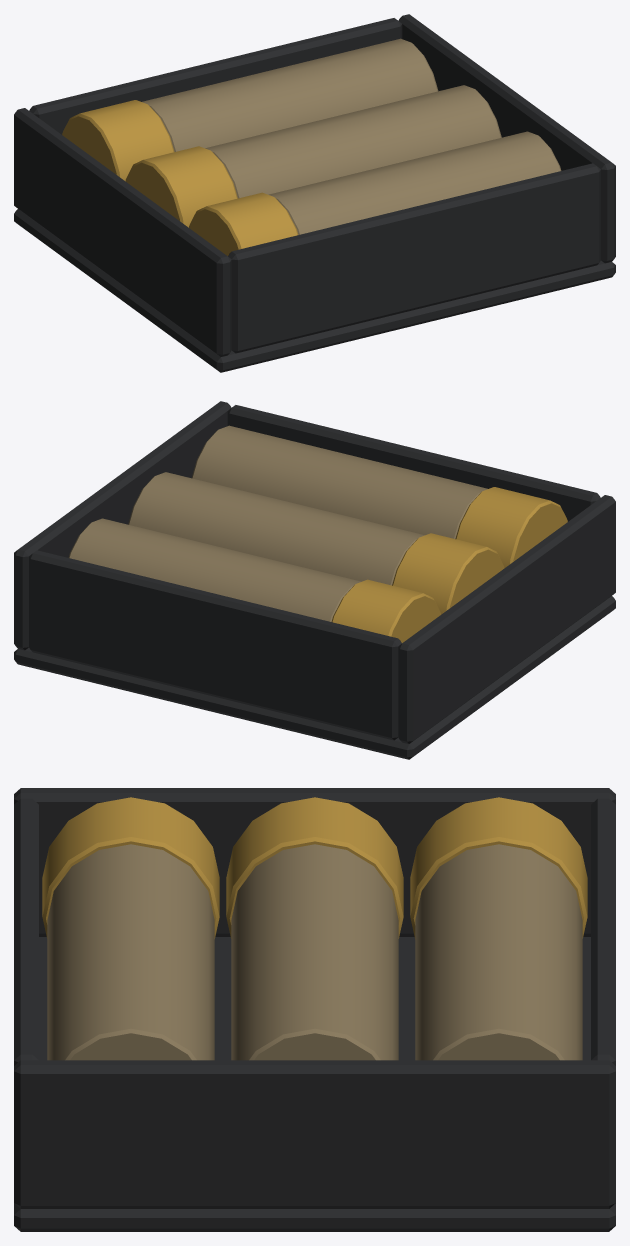
File: mod_shotgun_he.glb
The picture shows the model from 3 angles, top to bottom: view 1: azimuth 30°, elevation 25°; view 2: azimuth 150°, elevation 25°; view 3: azimuth 270°, elevation 25°; orthographic projection. The views are drawn at different scales.
Parts seen in each view (by area): view 1: AmmoCaddy, AmmoShell2, AmmoShell1, AmmoShell0; view 2: AmmoCaddy, AmmoShell0, AmmoShell1, AmmoShell2; view 3: AmmoCaddy, AmmoShell0, AmmoShell2, AmmoShell1.
Boxes of the visible parts, x1,y1,x2,y2 form: AmmoCaddy: [14, 14, 615, 372]; AmmoShell2: [62, 38, 438, 181]; AmmoShell1: [125, 85, 501, 227]; AmmoShell0: [189, 131, 561, 255]; AmmoCaddy: [14, 401, 615, 759]; AmmoShell0: [191, 425, 567, 568]; AmmoShell1: [128, 472, 504, 614]; AmmoShell2: [68, 518, 440, 642]; AmmoCaddy: [14, 788, 615, 1231]; AmmoShell0: [42, 797, 219, 1060]; AmmoShell2: [410, 797, 587, 1060]; AmmoShell1: [226, 797, 403, 1060].
Size of the model in its own units: 0.08 by 0.0241 by 0.072.
